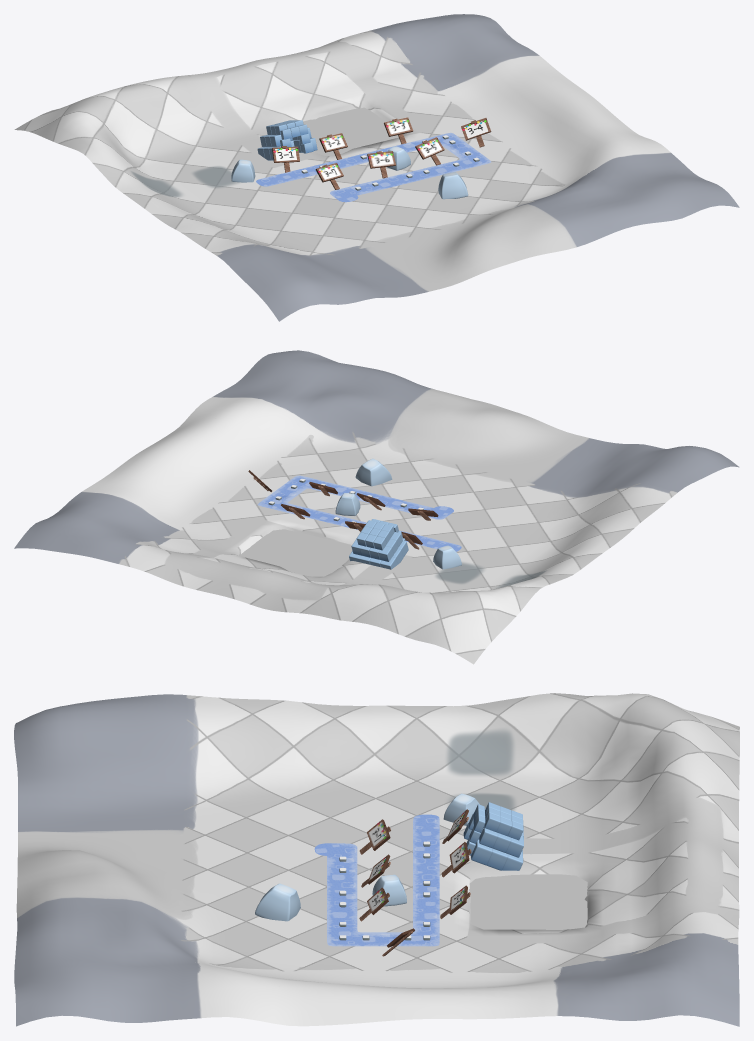
The model's file is stage3_select_ground.fbx.
3 renders of one model, top to bottom at view 1: azimuth 30°, elevation 25°; view 2: azimuth 150°, elevation 25°; view 3: azimuth 270°, elevation 25°, orthographic. The views are drawn at different scales.
Parts seen in each view (by area): view 1: ground, road2, ike1, snow01; view 2: ground, ike1, road2, snow01; view 3: ground, road2, ike1, snow01, snow02, snow04.
Part boxes in pixels (x1,y1,x2,y2): ground: [14, 14, 739, 321]; road2: [256, 132, 491, 202]; ike1: [303, 107, 398, 155]; snow01: [438, 172, 468, 199]; ground: [14, 350, 739, 664]; ike1: [240, 529, 352, 576]; road2: [257, 475, 461, 551]; snow01: [355, 458, 392, 486]; ground: [14, 693, 739, 1026]; road2: [314, 814, 439, 946]; ike1: [469, 874, 587, 929]; snow01: [255, 883, 300, 921]; snow02: [372, 874, 406, 906]; snow04: [443, 793, 479, 825].
Bounding box in the file's own units: 29.31 × 3.75 × 29.28.
